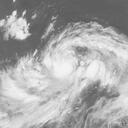cyclone: (47, 44, 85, 84)
